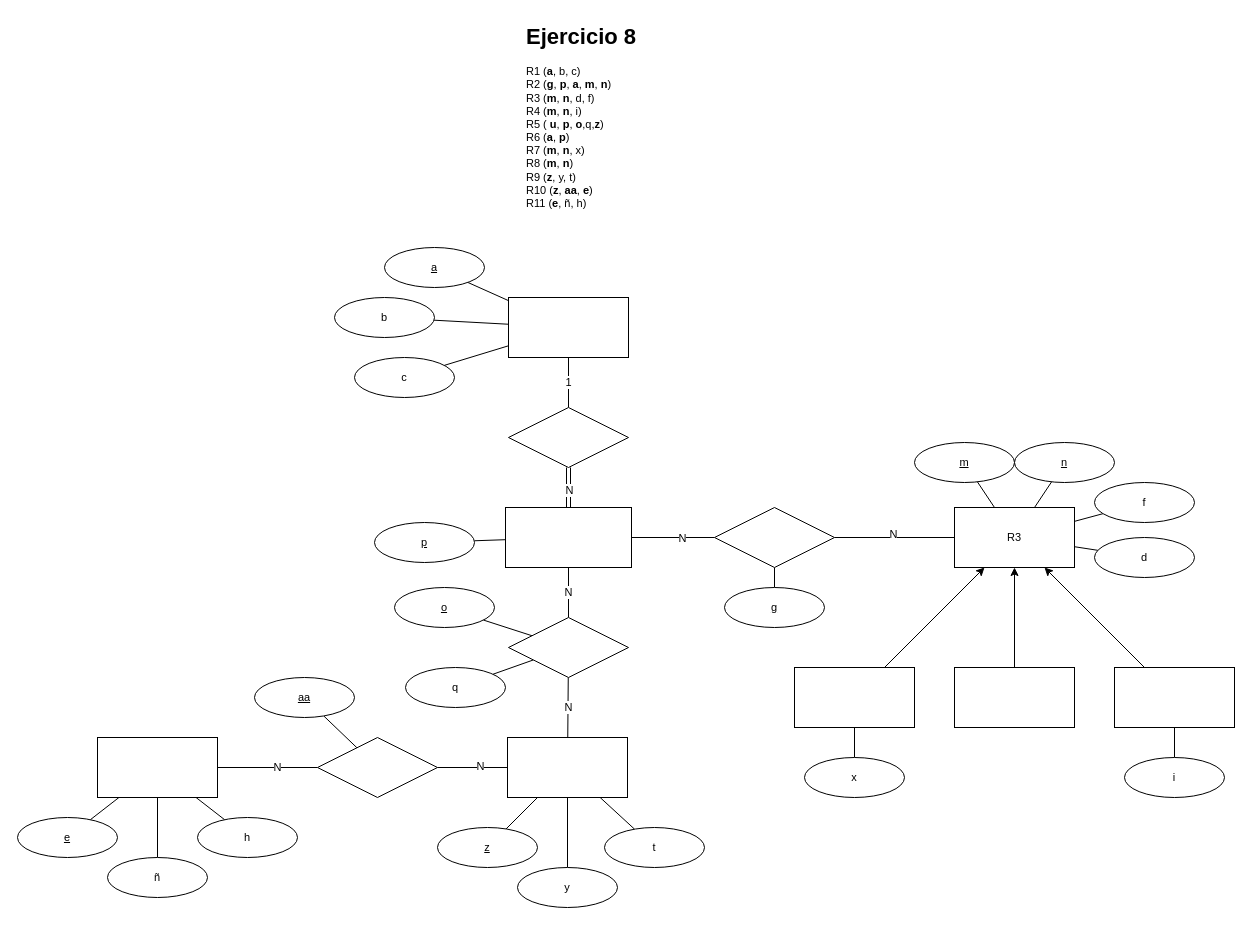
Image size: 1252x925. Some labels were removed from this diagram. Here are the shapes that lost their labels. From the top down, the box of each, then its label:
(508, 296, 628, 358): R1
(504, 506, 632, 568): R6
(714, 506, 834, 568): R2
(508, 616, 628, 678): R5
(794, 666, 914, 728): R7
(954, 666, 1074, 728): R8
(1114, 666, 1234, 728): R4
(96, 736, 218, 798): R11
(316, 736, 438, 798): R10
(506, 736, 628, 798): R9
